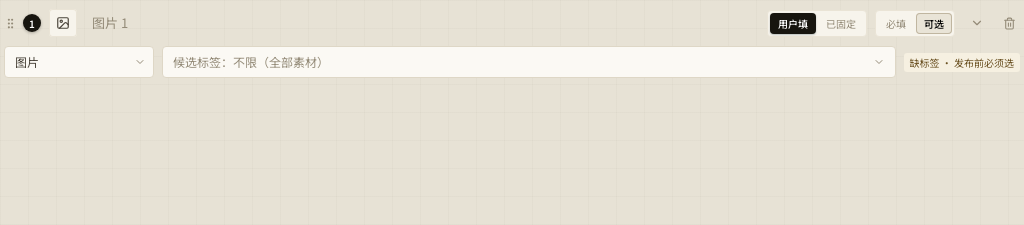
Test: 槽位卡片 › 提示词里没引用这个槽位时，可选槽位仍然显示「选中时文案」
The width and height of the screenshot is (1024, 225).
Click the button named "展开更多设置". click: x=977, y=23
box: [963,9,991,37]
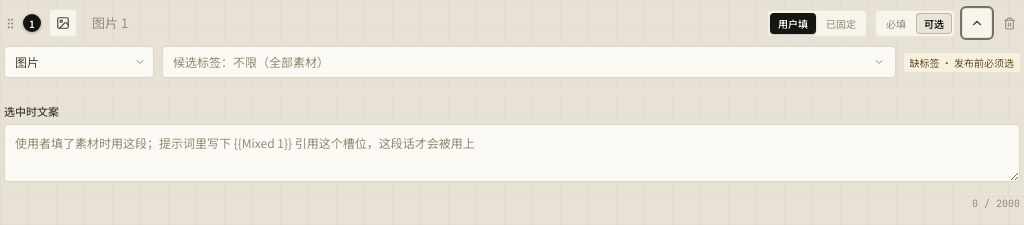
Now the text box labelled "选中时文案" is shown, box [4,124,1020,182]
